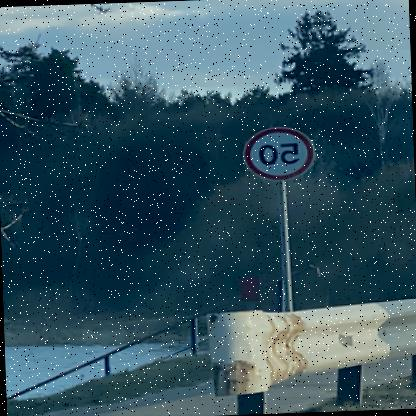speedlimit: (243, 124, 318, 182)
